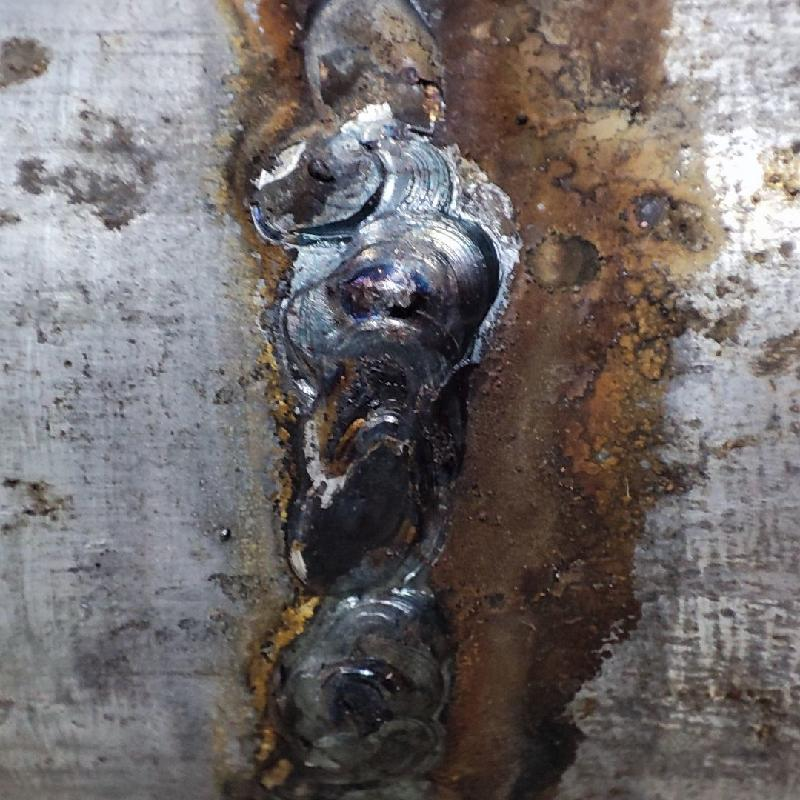Not_fully_soldered: (254, 5, 454, 220)
wrong_size: (253, 217, 503, 792)
